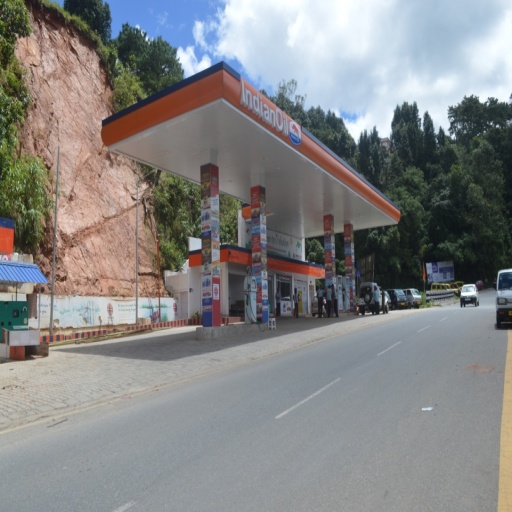roof: (101, 63, 400, 246)
